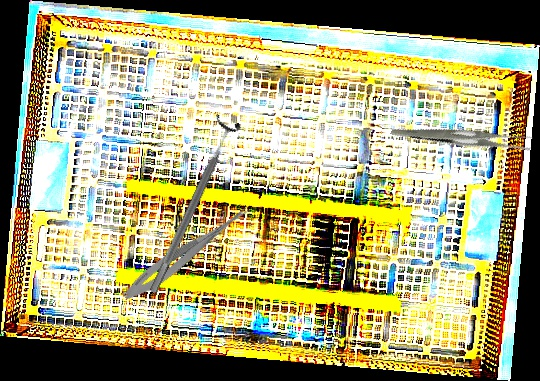Dressing Forceps: (390, 85, 535, 187)
Fixation Ring: (139, 113, 244, 299)
Micro Scissor: (118, 197, 255, 307)
